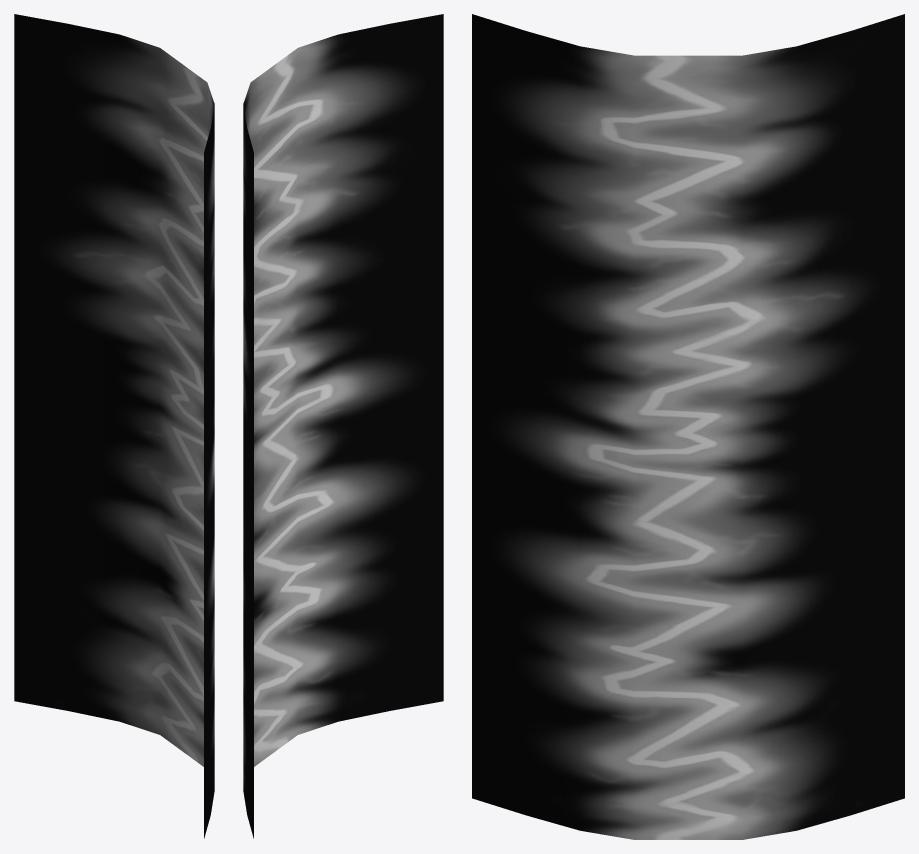
File: Lighting_VFX_Model.fbx
3 renders of one model, left to right at view 1: azimuth 30°, elevation 25°; view 2: azimuth 150°, elevation 25°; view 3: azimuth 270°, elevation 25°, orthographic. The views are drawn at different scales.
Visible parts, largest first — view 1: Lightniing_Base_Mesh; view 2: Lightniing_Base_Mesh; view 3: Lightniing_Base_Mesh.
Part boxes in pixels (box(x1,y1,x2,y2)): Lightniing_Base_Mesh: box(14, 14, 214, 838); Lightniing_Base_Mesh: box(243, 14, 443, 838); Lightniing_Base_Mesh: box(472, 14, 904, 839).
Bounding box in the file's own units: 90.92 × 800 × 400.
